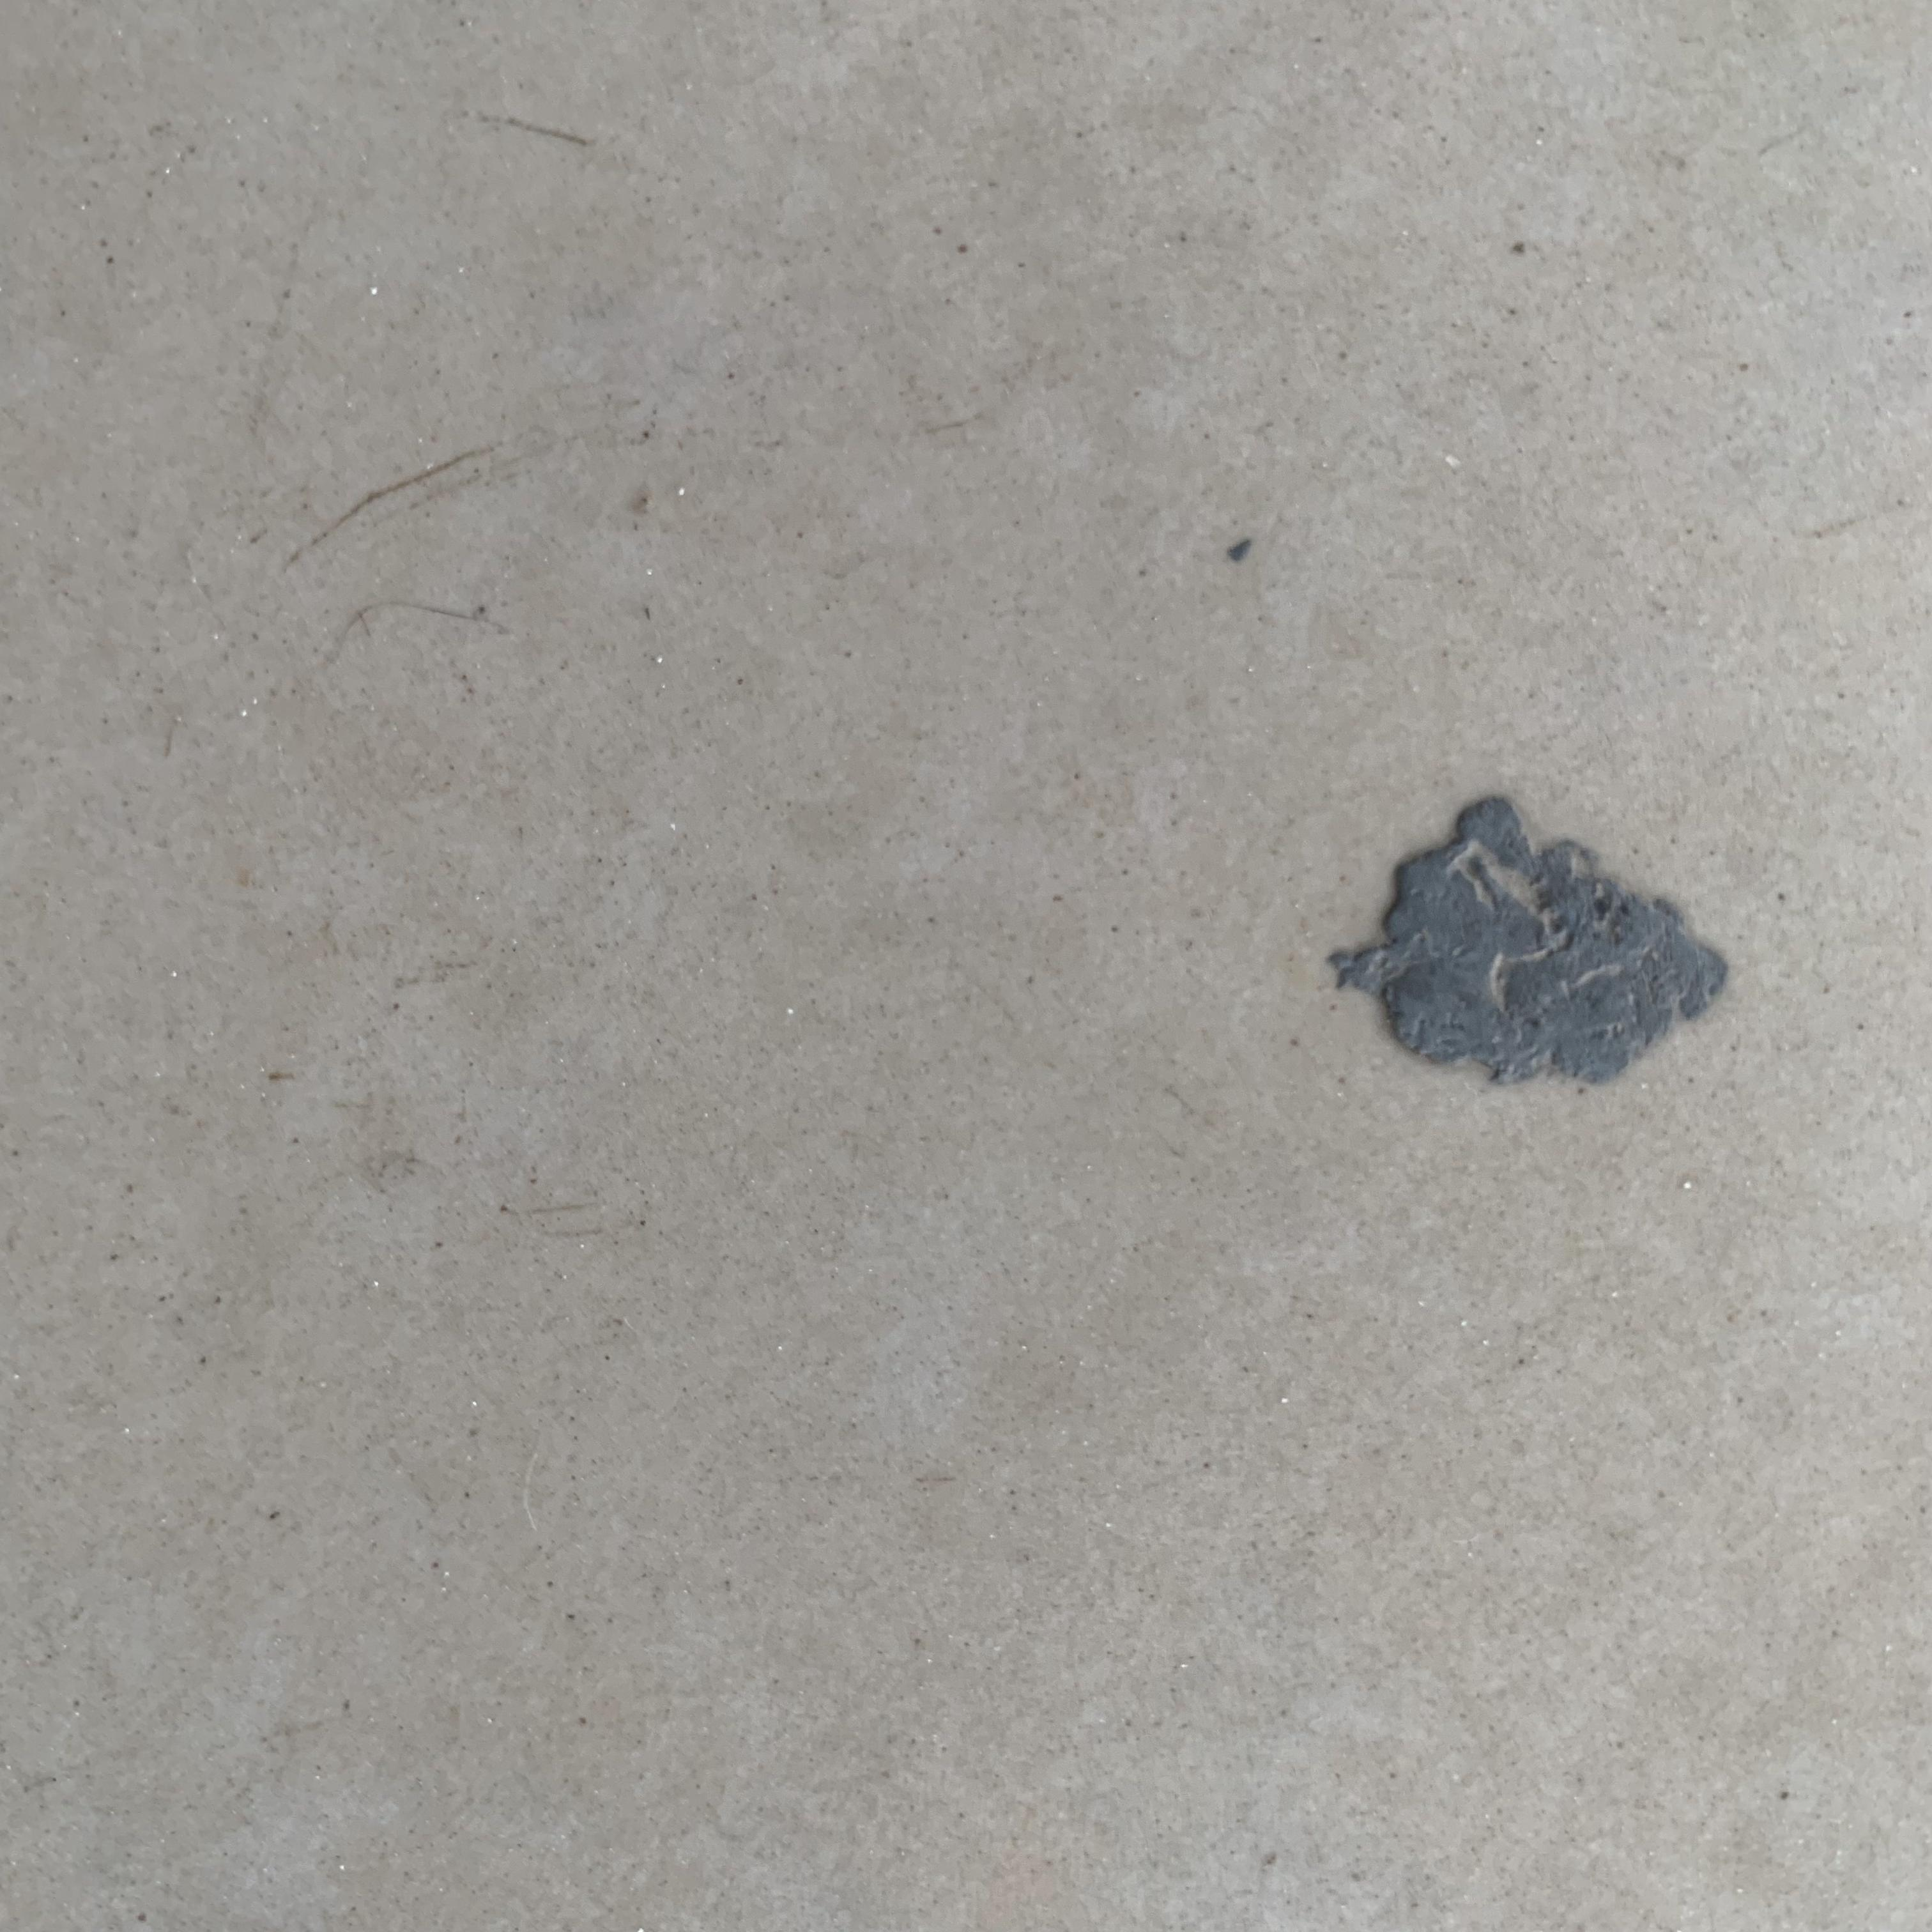grey spot: (1323, 796, 1732, 1085)
